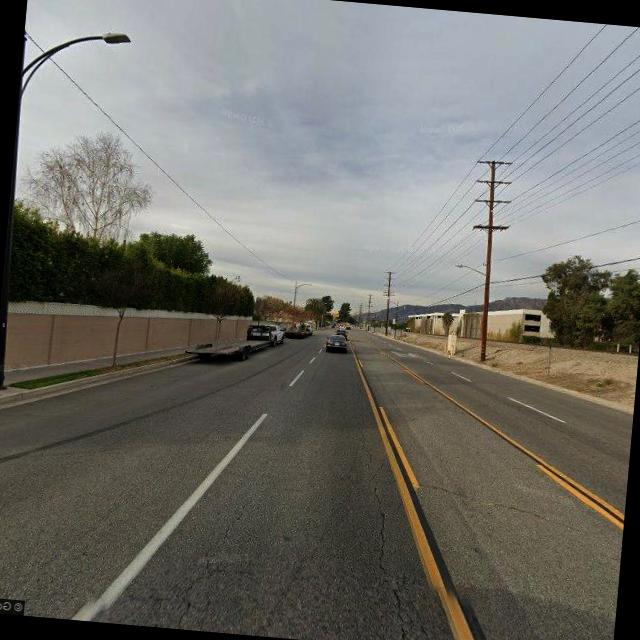pothole: (380, 472, 623, 541), (355, 460, 423, 637), (204, 471, 251, 571)
